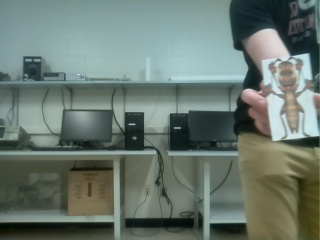Angry: (263, 56, 313, 141)
